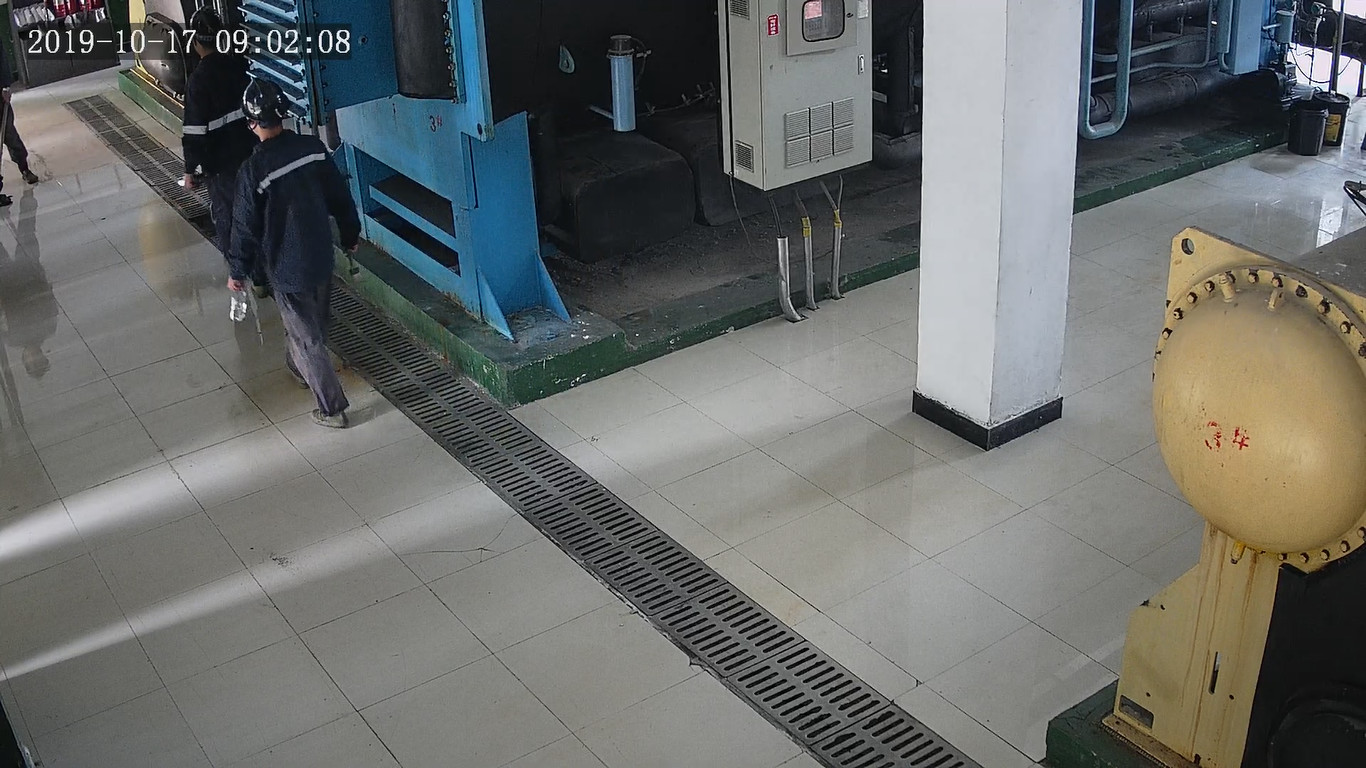helmet: (240, 77, 291, 123), (186, 5, 225, 43)
